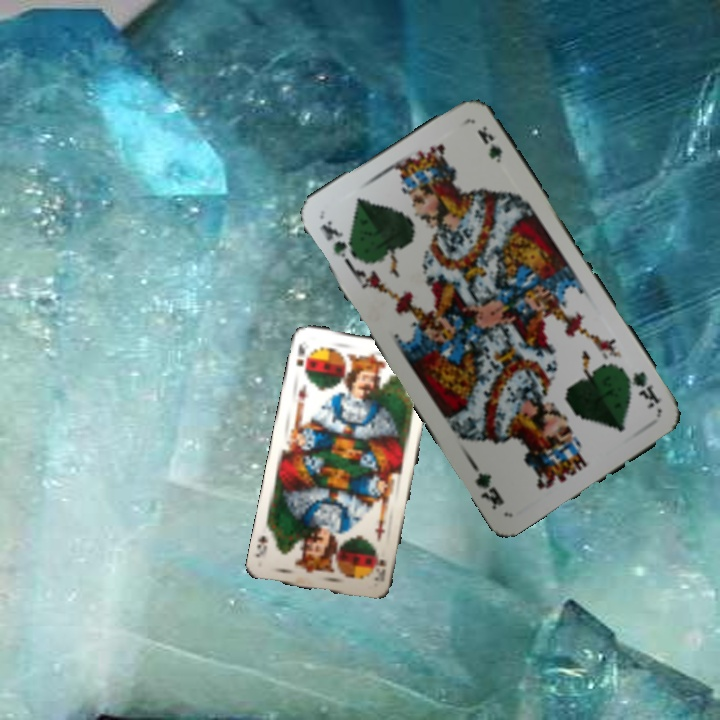GK: (619, 366, 663, 412), (316, 216, 353, 268)
SK: (292, 340, 311, 377), (370, 549, 389, 583)
